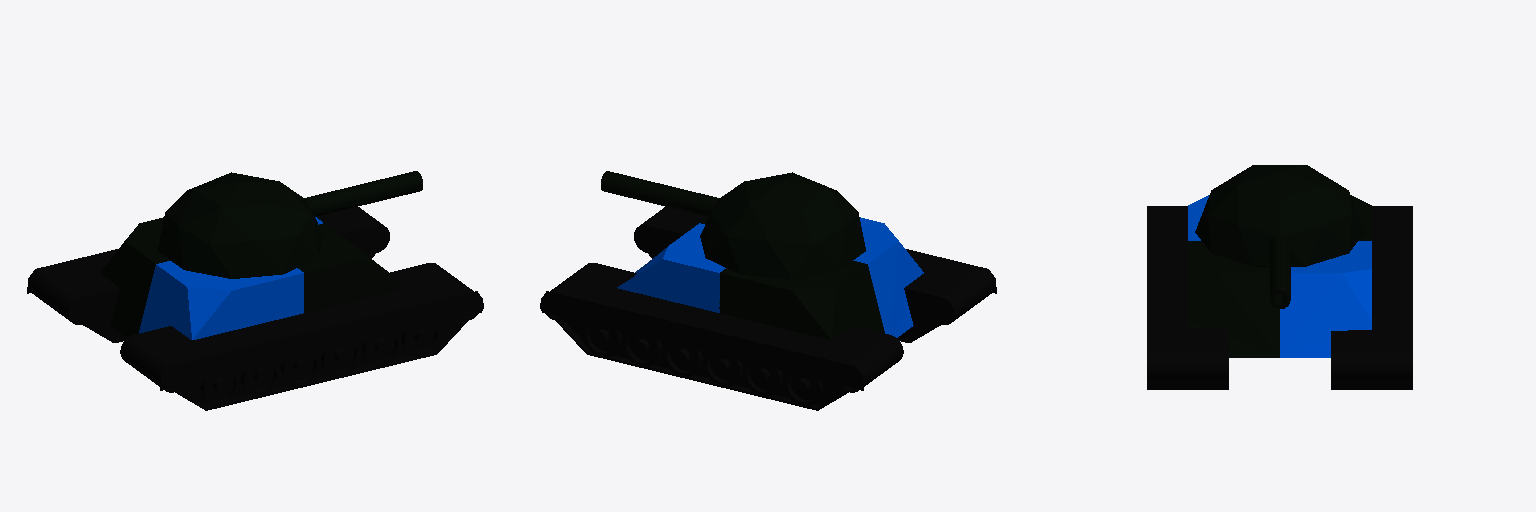
Rendered from danktank.obj.
3 renders of one model, left to right at view 1: azimuth 30°, elevation 25°; view 2: azimuth 150°, elevation 25°; view 3: azimuth 270°, elevation 25°, orthographic.
Visible parts, largest first — view 1: WheelsR_Plane, base_Cube.010, Icosphere, WheelsL_Plane.001, canon_Cylinder; view 2: WheelsL_Plane.001, base_Cube.010, Icosphere, WheelsR_Plane, canon_Cylinder; view 3: base_Cube.010, Icosphere, WheelsR_Plane, WheelsL_Plane.001, canon_Cylinder.
Part boxes in pixels (x1,y1,x2,y2): WheelsR_Plane: (120, 263, 483, 410); base_Cube.010: (100, 217, 406, 339); Icosphere: (158, 172, 323, 278); WheelsL_Plane.001: (27, 207, 389, 342); canon_Cylinder: (305, 171, 422, 216); WheelsL_Plane.001: (540, 263, 903, 410); base_Cube.010: (617, 217, 923, 340); Icosphere: (700, 172, 865, 278); WheelsR_Plane: (634, 207, 996, 342); canon_Cylinder: (601, 171, 718, 216); base_Cube.010: (1188, 195, 1371, 357); Icosphere: (1195, 165, 1364, 266); WheelsR_Plane: (1147, 206, 1228, 389); WheelsL_Plane.001: (1331, 206, 1412, 389); canon_Cylinder: (1270, 235, 1290, 308).
Size of the model in its own units: 1.02 by 0.4668 by 0.7233.